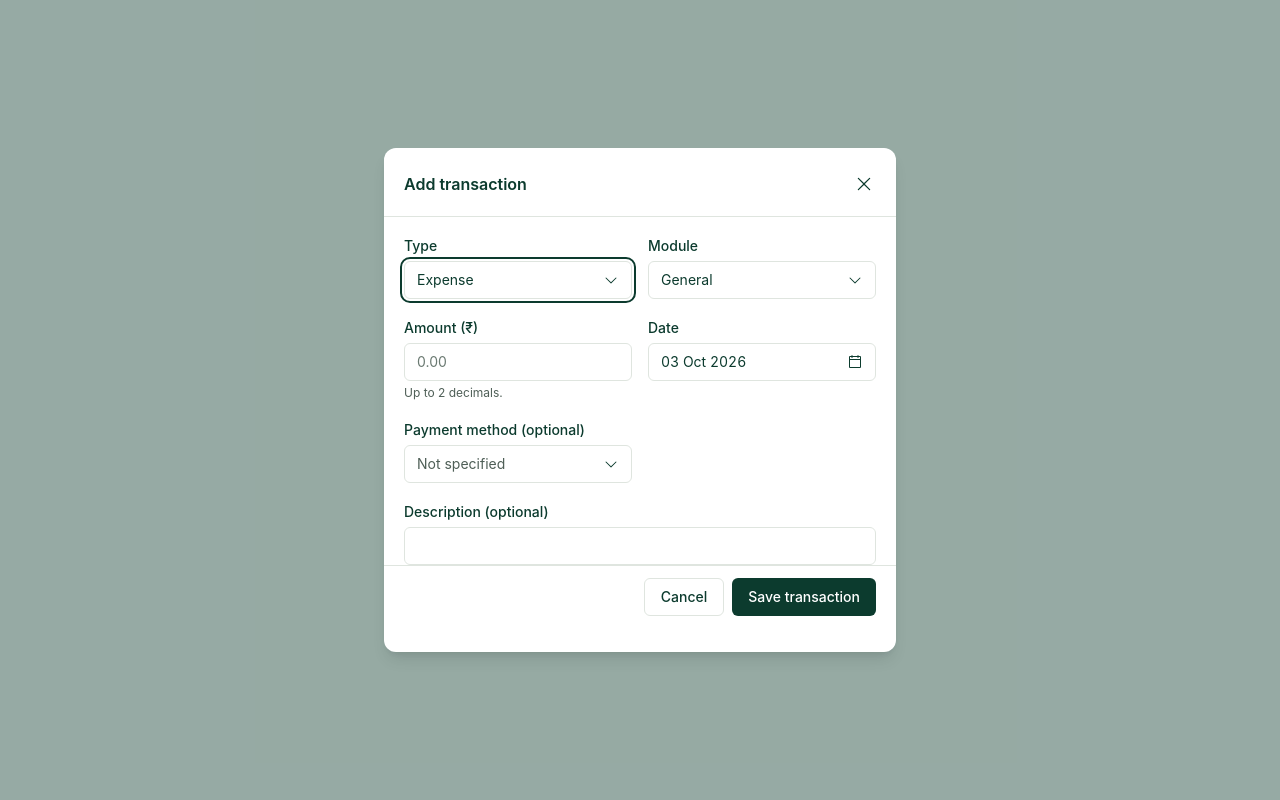
AddTransactionDialog › requires a reason for adjustments
Click the dropdown named "Type" at (518, 280), box [404,261,632,299]
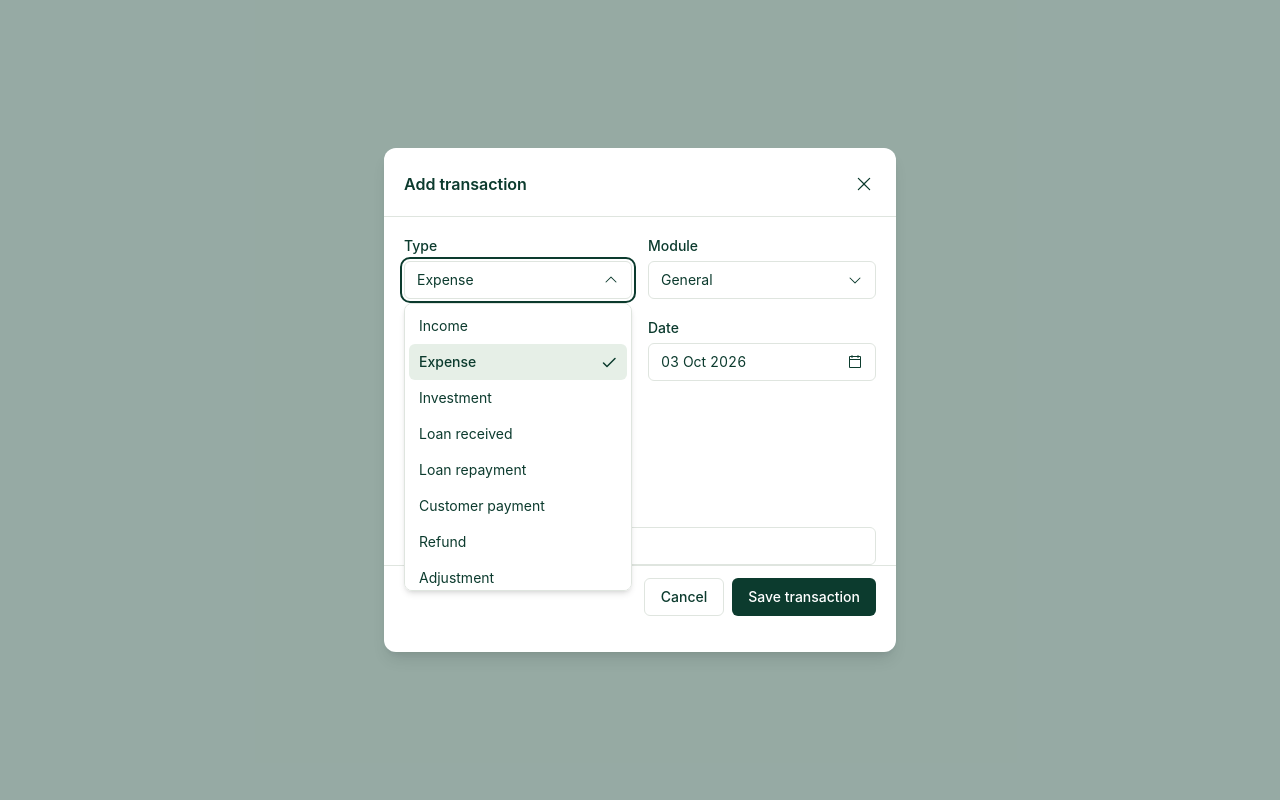
Click the option "Adjustment" at (457, 578), box [419,569,494,586]
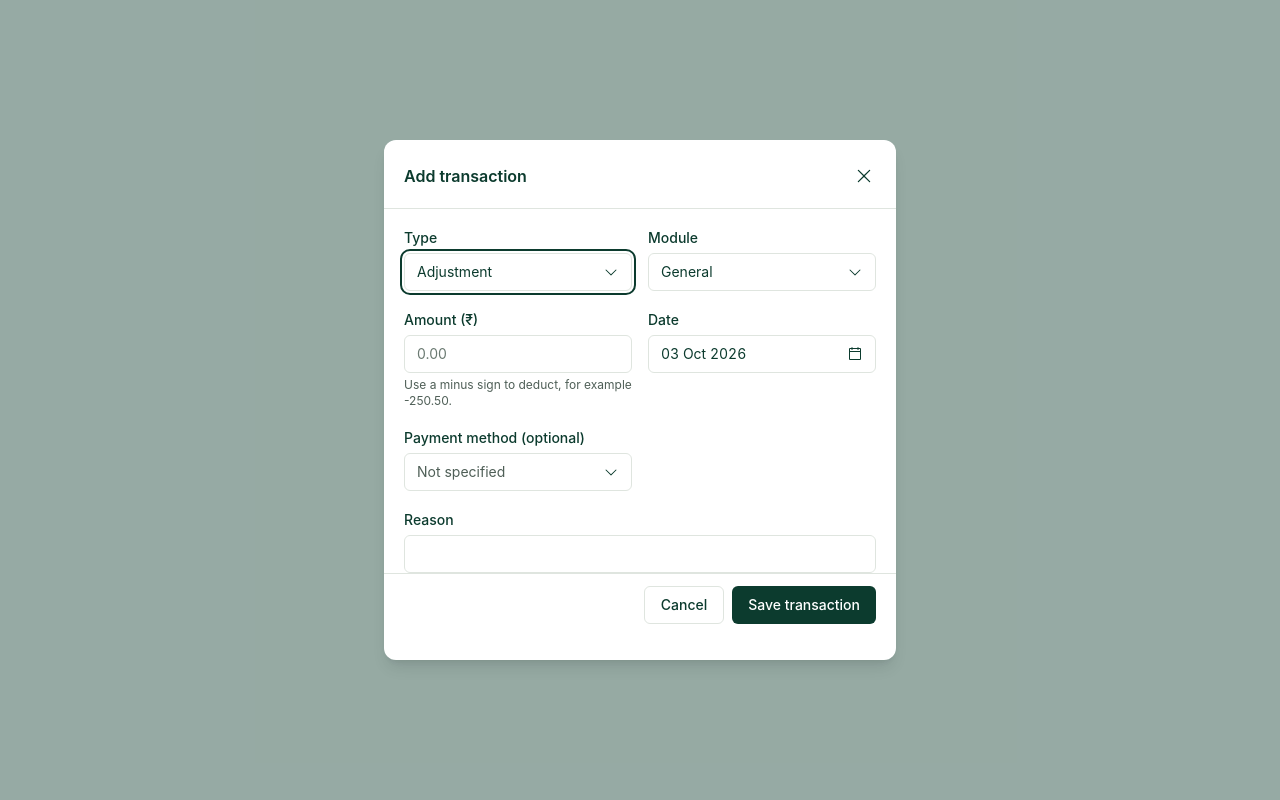
Type "-100" into the field labelled "Amount (₹)" at (518, 354), box [404,335,632,373]
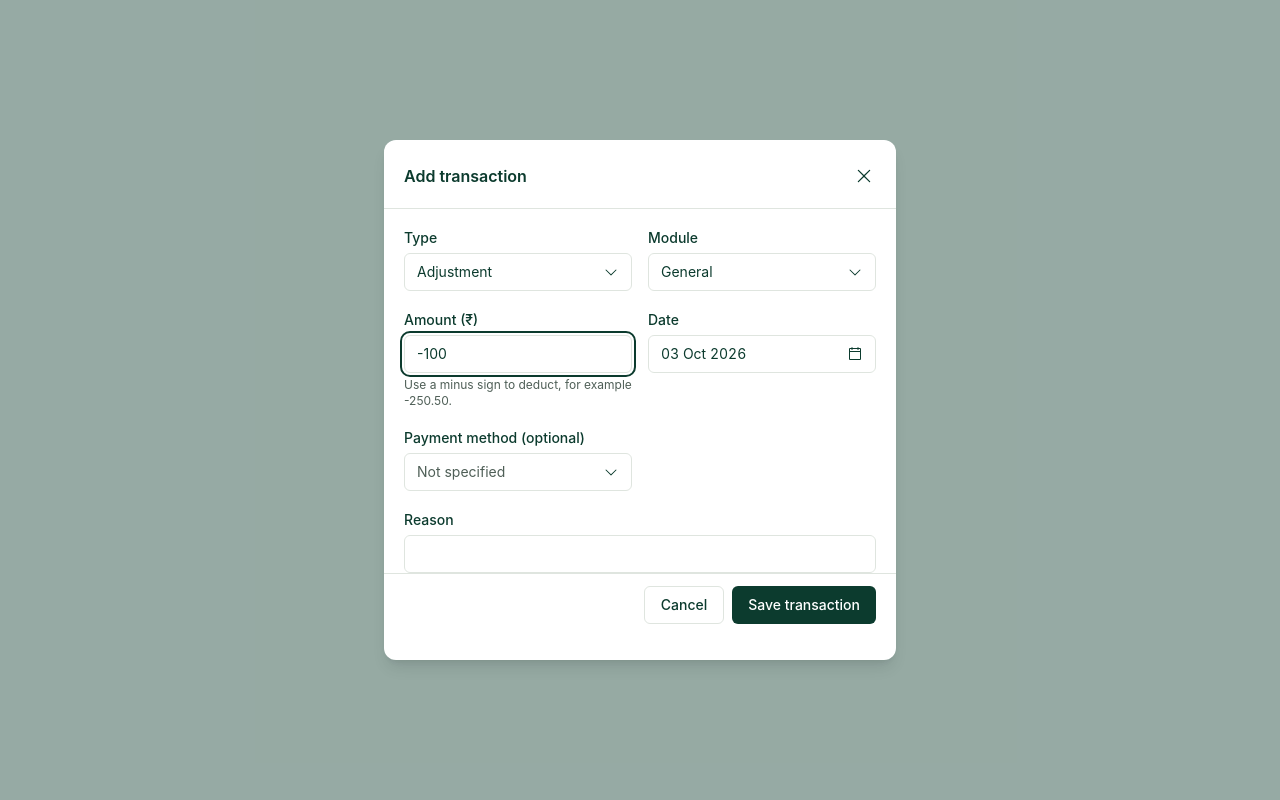
Click the button "Save transaction" at (804, 605), box [732,586,876,624]
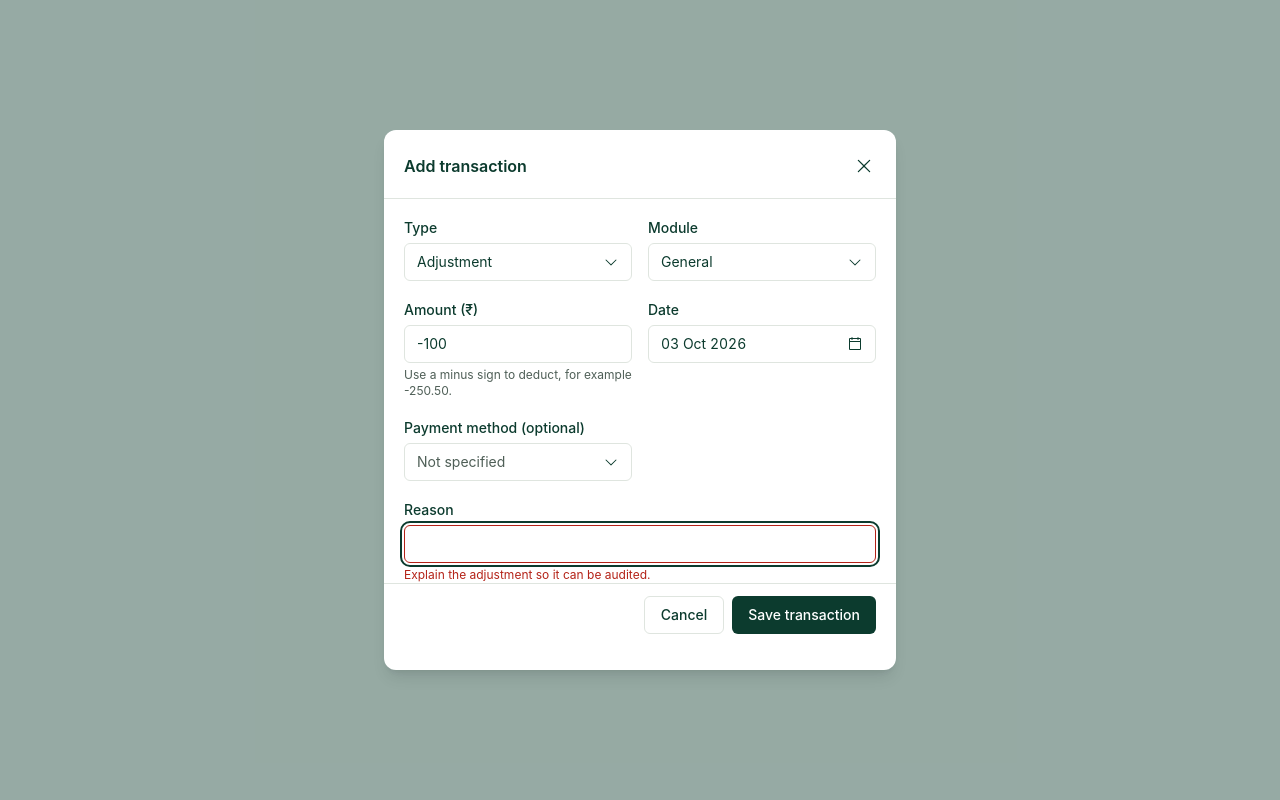
Check: the text "Explain the adjustment so it can be audited." is shown, box [404,567,650,582]
